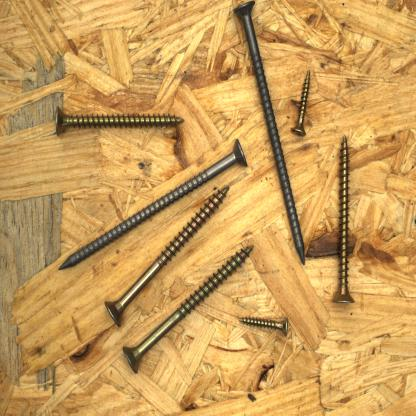screw: (54, 134, 250, 280), (231, 0, 309, 270), (101, 180, 233, 330), (119, 240, 256, 375), (329, 132, 357, 306), (52, 102, 187, 138), (288, 65, 314, 139), (236, 312, 292, 341)
